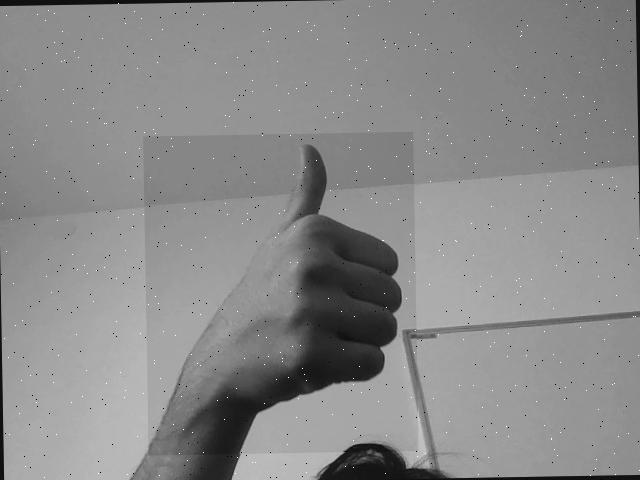good: (149, 134, 416, 453)
